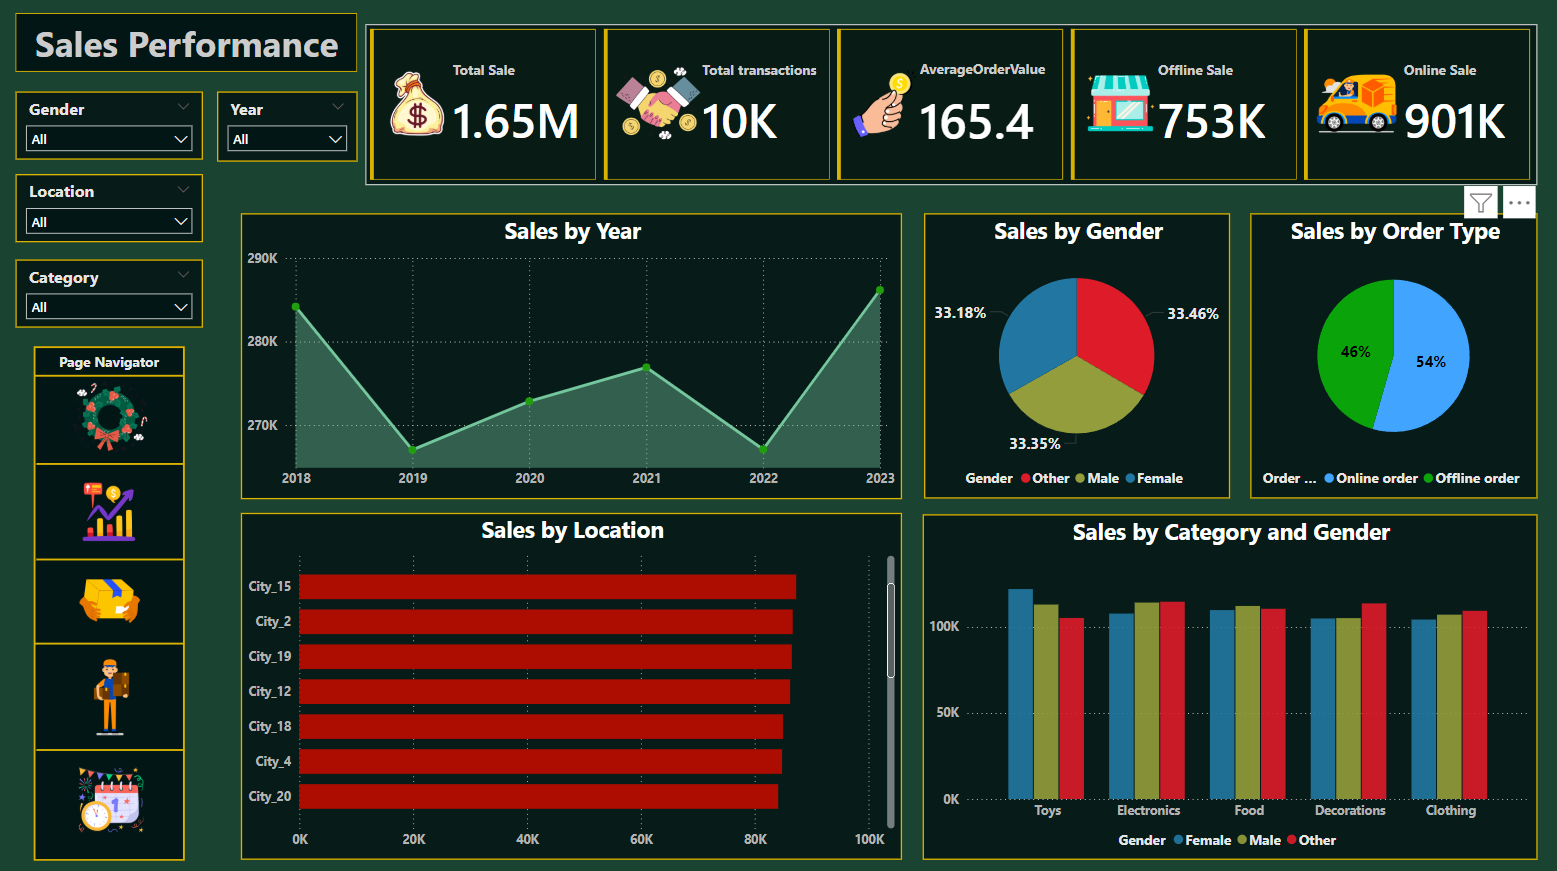

What the dashboard file says about the page in this screenshot:
{"tool":"powerbi","page":{"name":"Sales Performance ","canvas":[1664,936],"ordinal":0},"visuals":[{"type":"shape","box":[16.1,15.2,364.4,62.8],"z":0,"group":"g1"},{"type":"areaChart","title":"Sales by Year","fields":{"Category":["Christmas sales data.Date.Variation.Date Hierarchy.Year"],"Y":["Sum(Christmas sales data.TotalPrice)"]},"box":[256.7,228.3,705,305],"z":0},{"type":"clusteredBarChart","title":"Sales by Location","fields":{"Category":["Christmas sales data.Location"],"Y":["Sum(Christmas sales data.TotalPrice)"]},"box":[256.7,548,704.7,370],"z":1000},{"type":"pieChart","title":"Sales by Order Type","fields":{"Y":["Sum(Christmas sales data.TotalPrice)"],"Category":["Christmas sales data.Online vs Offline"]},"box":[1332.2,228.9,306.7,304.4],"z":2000},{"type":"pieChart","title":"Sales by Gender","fields":{"Category":["Christmas sales data.Gender"],"Y":["Sum(Christmas sales data.TotalPrice)"]},"box":[984.4,228.9,326.7,304.4],"z":3000},{"type":"textbox","box":[18.2,17.1,362.3,63.1],"z":4000,"group":"g1"},{"type":"slicer","fields":{"Values":["Christmas sales data.Gender"]},"box":[16.7,98.3,200,73],"z":4000},{"type":"slicer","fields":{"Values":["Christmas sales data.Location"]},"box":[16.5,187.1,200,72.9],"z":5000},{"type":"slicer","fields":{"Values":["Christmas sales data.Category"]},"box":[16.5,278.2,200,72.9],"z":6000},{"type":"slicer","fields":{"Values":["Christmas sales data.Date.Variation.Date Hierarchy.Year"]},"box":[231.2,98.2,150,75.3],"z":7000},{"type":"cardVisual","fields":{"Data":["MeasuresTable.Total Sale","MeasuresTable.Total transactions","MeasuresTable.AverageOrderValue","MeasuresTable.Offline Sale","MeasuresTable.Online Sale"]},"box":[390,26.7,1248.3,171.7],"z":8000},{"type":"clusteredColumnChart","title":"Sales by Category and Gender","fields":{"Y":["Sum(Christmas sales data.TotalPrice)"],"Series":["Christmas sales data.Gender"],"Category":["Christmas sales data.Category"]},"box":[983.3,548.9,655.6,368.9],"z":9000},{"type":"group","id":"g1","title":"Group 3","box":[16.1,15.2,364.4,65],"z":11000},{"type":"shape","box":[36.7,442,167,470],"z":12000,"group":"g2"},{"type":"group","id":"g2","title":"Group 1","box":[36.7,442,167,470],"z":13000,"group":"g3"},{"type":"image","box":[73.2,582.2,94.1,86.4],"z":13000,"group":"g2"},{"type":"textbox","box":[38.7,443.3,163.3,31],"z":14000,"group":"g3"},{"type":"image","box":[77.3,486.2,86.1,81],"z":14000,"group":"g2"},{"type":"group","id":"g3","title":"Group 2","box":[36.7,442,167,470],"z":14001},{"type":"image","box":[74.7,801.8,94.1,86.1],"z":15000,"group":"g2"},{"type":"image","box":[74.7,683.8,94.7,94.7],"z":16000,"group":"g2"},{"type":"shape","box":[39.6,468.1,163.2,12.7],"z":17000,"group":"g2"},{"type":"shape","box":[39.6,572.1,162.9,13.4],"z":19000,"group":"g2"},{"type":"shape","box":[38.5,665.2,163.5,13.7],"z":20000,"group":"g2"},{"type":"shape","box":[39.6,782.4,163.5,13.7],"z":21000,"group":"g2"}]}

Visuals, with their boxes in screenshot pixels (x1, y1, x2, y2), scaled from the page's 1664x936 canvas onto the 1557x871 screenshot:
shape: bbox=[15, 14, 356, 73]
"Sales by Year" areaChart: bbox=[240, 212, 900, 496]
"Sales by Location" clusteredBarChart: bbox=[240, 510, 900, 854]
"Sales by Order Type" pieChart: bbox=[1247, 213, 1534, 496]
"Sales by Gender" pieChart: bbox=[921, 213, 1227, 496]
textbox: bbox=[17, 16, 356, 75]
slicer - Christmas sales data.Gender: bbox=[16, 91, 203, 159]
slicer - Christmas sales data.Location: bbox=[15, 174, 203, 242]
slicer - Christmas sales data.Category: bbox=[15, 259, 203, 327]
slicer - Christmas sales data.Date.Variation.Date Hierarchy.Year: bbox=[216, 91, 357, 161]
cardVisual - MeasuresTable.Total Sale x MeasuresTable.Total transactions: bbox=[365, 25, 1533, 185]
"Sales by Category and Gender" clusteredColumnChart: bbox=[920, 511, 1534, 854]
"Group 3" group: bbox=[15, 14, 356, 75]
shape: bbox=[34, 411, 191, 849]
"Group 1" group: bbox=[34, 411, 191, 849]
image: bbox=[68, 542, 157, 622]
textbox: bbox=[36, 413, 189, 441]
image: bbox=[72, 452, 153, 528]
"Group 2" group: bbox=[34, 411, 191, 849]
image: bbox=[70, 746, 158, 826]
image: bbox=[70, 636, 159, 724]
shape: bbox=[37, 436, 190, 447]
shape: bbox=[37, 532, 189, 545]
shape: bbox=[36, 619, 189, 632]
shape: bbox=[37, 728, 190, 741]
